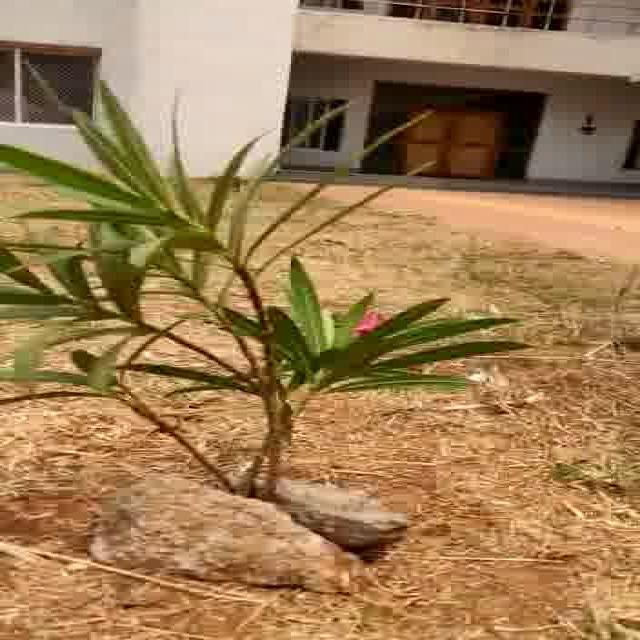OLEANDER: (7, 72, 522, 463)
